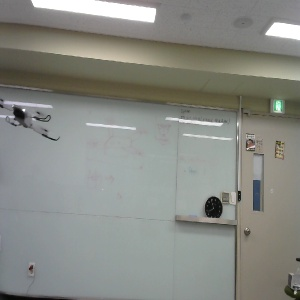Drone: (1, 100, 56, 143)
